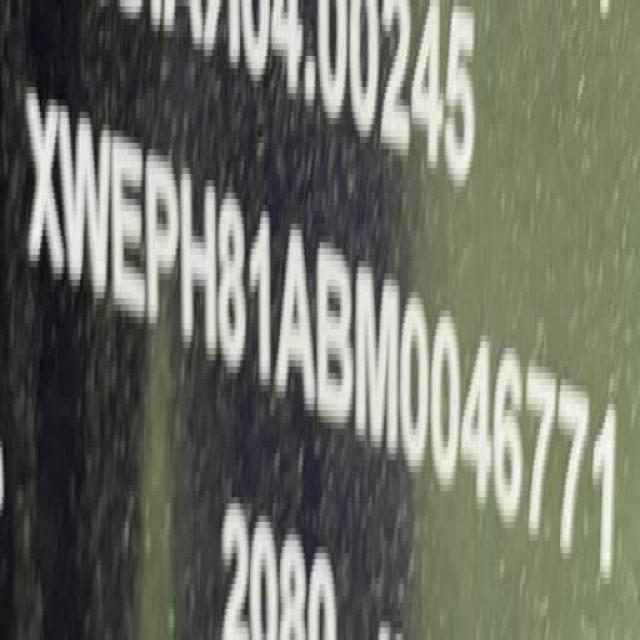0: (400, 286, 431, 474), (430, 307, 460, 496)
1: (596, 396, 622, 597), (252, 203, 276, 393)
4: (458, 329, 492, 514)
6: (493, 337, 527, 533)
7: (555, 372, 590, 572), (526, 357, 556, 551)
8: (216, 190, 248, 378)
A: (276, 215, 318, 413)
B: (314, 240, 354, 434)
E: (111, 128, 147, 327)
H: (182, 165, 219, 361)
M: (354, 264, 401, 458)
P: (144, 150, 180, 346)
W: (60, 99, 111, 302)
X: (23, 79, 62, 289)
